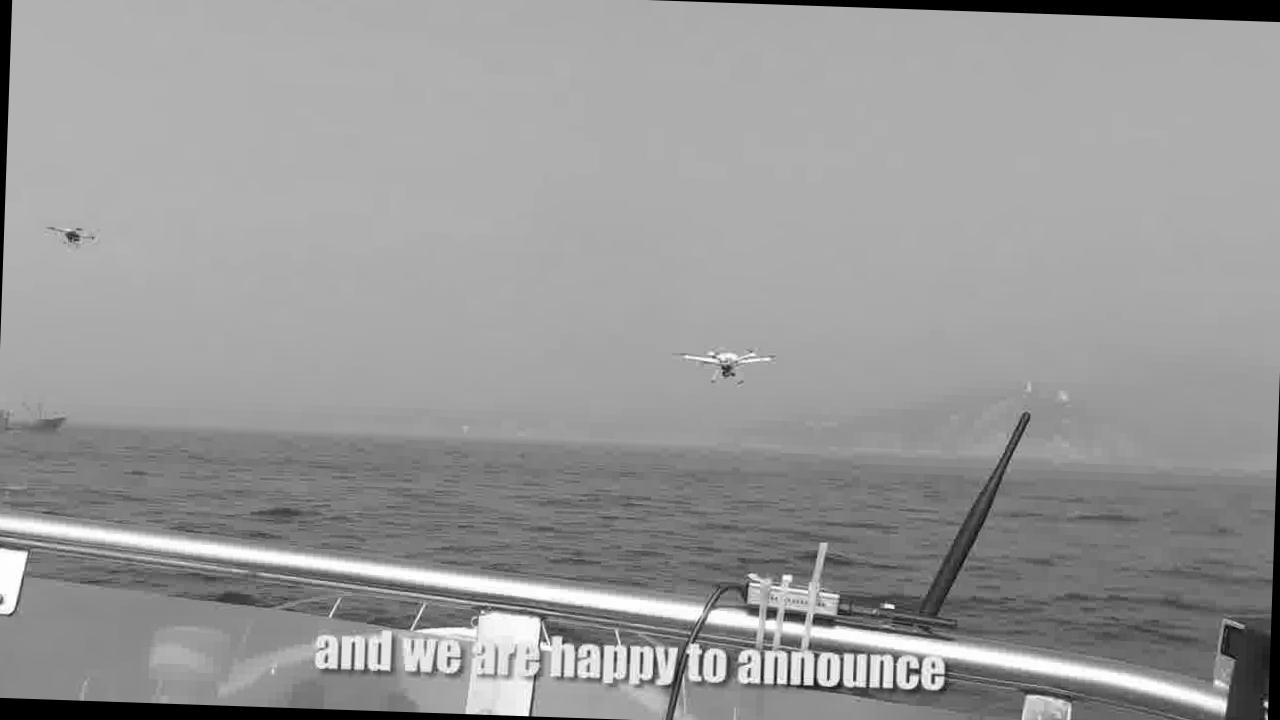drone: (667, 336, 779, 391), (41, 216, 104, 252)
